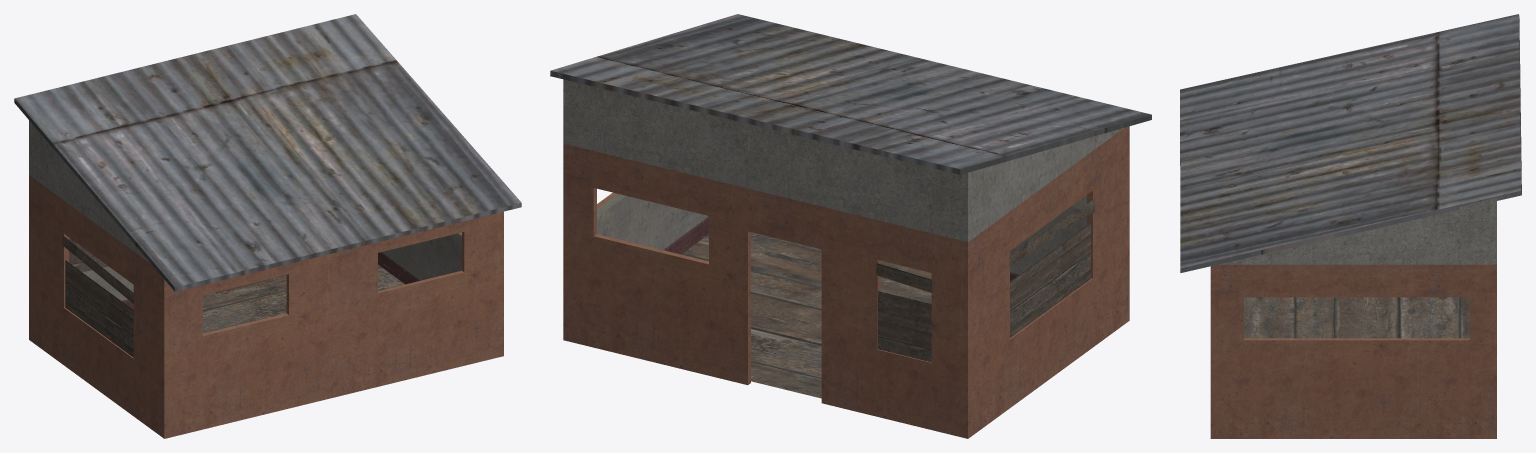
File: BuildingSmall01_2048_lod2.glb
3 views of the same model, side by side, from view 1: azimuth 30°, elevation 25°; view 2: azimuth 150°, elevation 25°; view 3: azimuth 270°, elevation 25° (orthographic). The views are drawn at different scales.
Visible parts, largest first — view 1: xiutz_building_small_01_lod2; view 2: xiutz_building_small_01_lod2; view 3: xiutz_building_small_01_lod2.
Boxes of the visible parts, bbox=[...] form: xiutz_building_small_01_lod2: bbox=[14, 14, 521, 438]; xiutz_building_small_01_lod2: bbox=[550, 14, 1151, 438]; xiutz_building_small_01_lod2: bbox=[1180, 14, 1521, 438].
Bounding box in the file's own units: 8.52 × 5.5 × 6.88.
Materials: 1 (1 with a texture image).
